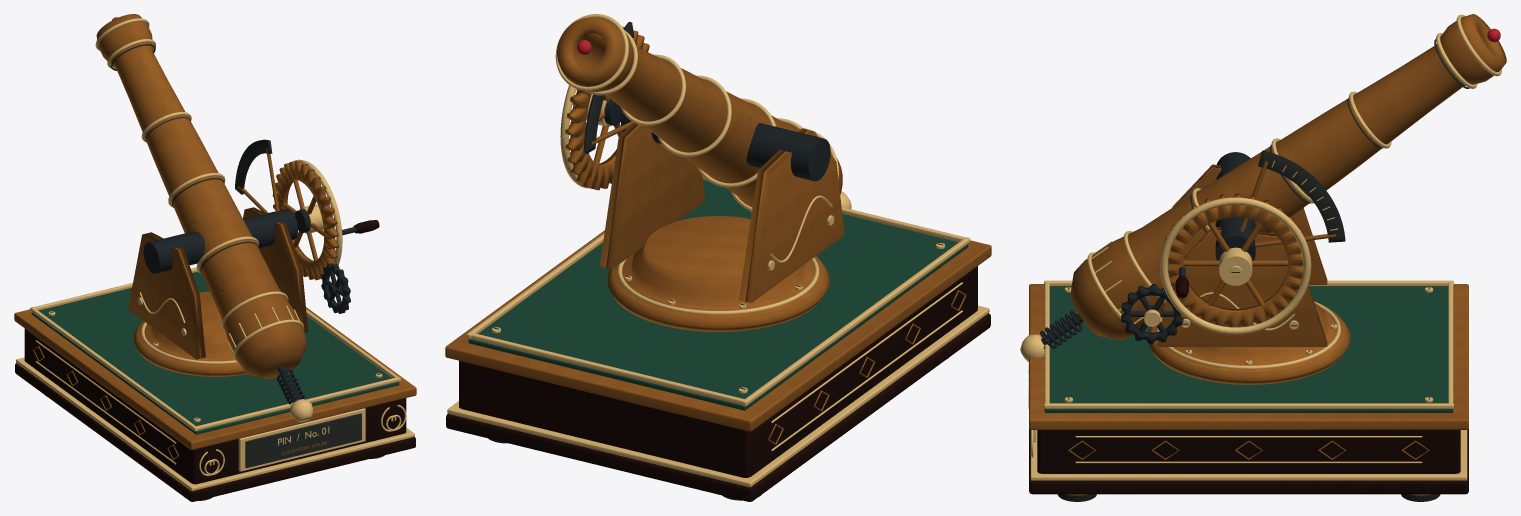
Rendered from PinLauncher.fbx.
3 renders of one model, left to right at view 1: azimuth 30°, elevation 25°; view 2: azimuth 150°, elevation 25°; view 3: azimuth 270°, elevation 25°, orthographic. The views are drawn at different scales.
Parts seen in each view (by area): view 1: Barrel_TaperedBrassShell, Enamel_Deck, Mahogany_Platform, Plinth_TopBead, CarriageCheek_-1, Plinth_LowerOgee, Turret_TurnedSocket, MakerPlaque_Enamel, Brass_Plinth, Elevation_Trunnion, ElevationGear_ToothedRim, CarriageCheek_1 (+9 smaller); view 2: Enamel_Deck, Mahogany_Platform, Turret_TurnedSocket, Barrel_TaperedBrassShell, Plinth_TopBead, CarriageCheek_-1, CarriageCheek_1, Plinth_LowerOgee, Brass_Plinth, Elevation_Trunnion, ElevationGear_ToothedRim, DeckEdge_X_-0.087 (+11 smaller); view 3: Enamel_Deck, Barrel_TaperedBrassShell, Mahogany_Platform, Plinth_TopBead, CarriageCheek_1, Plinth_LowerOgee, Turret_TurnedSocket, ElevationGear_ToothedRim, Brass_Plinth, Handwheel_PolishedRim, DeckEdge_X_0.087, ElevationScale_EngravedArc (+11 smaller).
Boxes of the visible parts, box(x1,y1,x2,y2) form: Barrel_TaperedBrassShell: box(96, 14, 306, 379); Enamel_Deck: box(31, 272, 399, 434); Mahogany_Platform: box(24, 328, 406, 484); Plinth_TopBead: box(14, 307, 416, 450); CarriageCheek_-1: box(128, 232, 205, 359); Plinth_LowerOgee: box(15, 363, 415, 501); Turret_TurnedSocket: box(133, 291, 247, 376); MakerPlaque_Enamel: box(245, 413, 361, 468); Brass_Plinth: box(16, 357, 414, 491); Elevation_Trunnion: box(143, 208, 297, 273); ElevationGear_ToothedRim: box(272, 160, 338, 280); CarriageCheek_1: box(243, 207, 308, 332); Enamel_Deck: box(468, 180, 968, 410); Mahogany_Platform: box(459, 266, 977, 477); Turret_TurnedSocket: box(607, 216, 829, 331); Barrel_TaperedBrassShell: box(557, 17, 842, 211); Plinth_TopBead: box(445, 230, 991, 431); CarriageCheek_-1: box(739, 128, 844, 303); CarriageCheek_1: box(599, 122, 705, 269); Plinth_LowerOgee: box(446, 313, 990, 501); Brass_Plinth: box(447, 305, 989, 487); Elevation_Trunnion: box(621, 111, 830, 181); ElevationGear_ToothedRim: box(565, 27, 649, 190); DeckEdge_X_-0.087: box(742, 237, 970, 406); Enamel_Deck: box(1044, 286, 1453, 412); Barrel_TaperedBrassShell: box(1070, 14, 1506, 340); Mahogany_Platform: box(1037, 430, 1460, 473); Plinth_TopBead: box(1029, 284, 1468, 429); CarriageCheek_1: box(1157, 227, 1327, 346); Plinth_LowerOgee: box(1029, 428, 1468, 494); Turret_TurnedSocket: box(1148, 301, 1350, 384); ElevationGear_ToothedRim: box(1161, 193, 1307, 327); Brass_Plinth: box(1030, 430, 1467, 480); Handwheel_PolishedRim: box(1160, 197, 1311, 334); DeckEdge_X_0.087: box(1044, 403, 1453, 408); ElevationScale_EngravedArc: box(1258, 150, 1345, 242).
Bounding box in the file's own units: 0.213 × 0.2807 × 0.2918.
8 materials, 3 textured.
